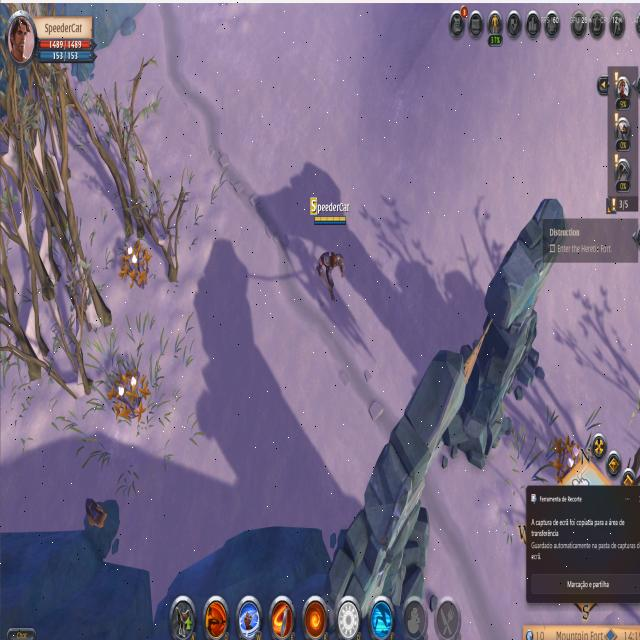copper: (82, 494, 122, 559)
cotton: (108, 370, 150, 427), (119, 242, 152, 296), (553, 434, 581, 486)
